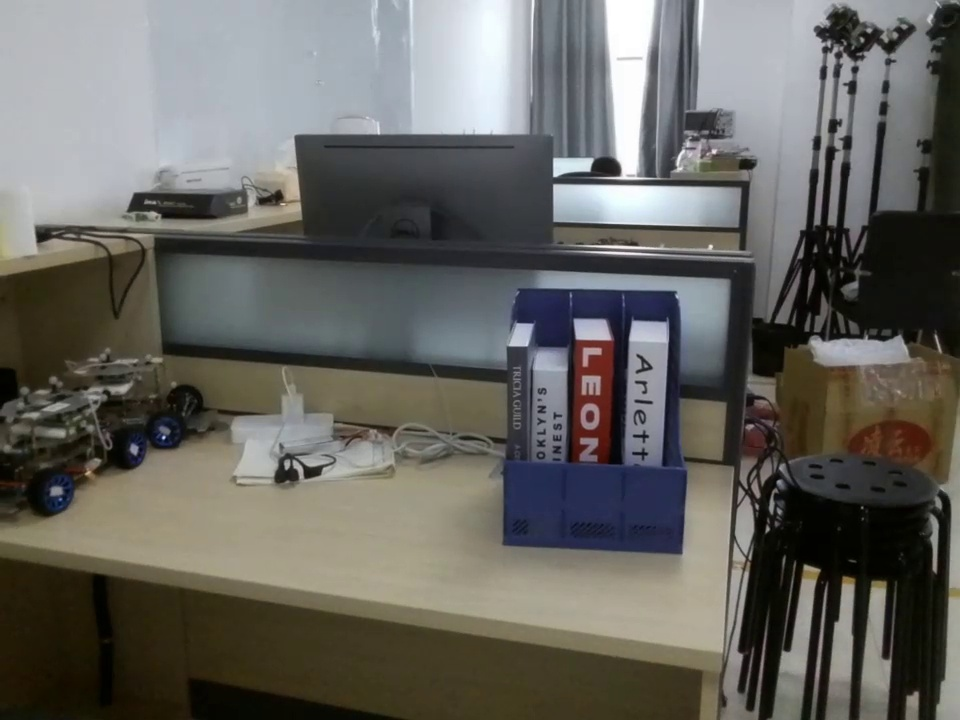files: (494, 286, 692, 564)
